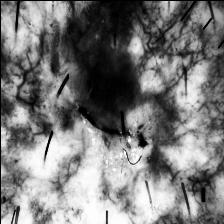Potentially Malignant Skin Tumors: (69, 0, 146, 108)
